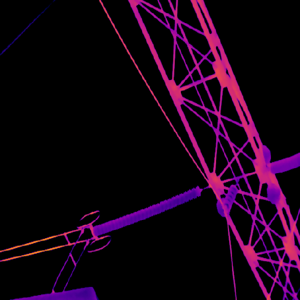insulator: (91, 185, 201, 235), (269, 151, 300, 173), (220, 185, 236, 214)
